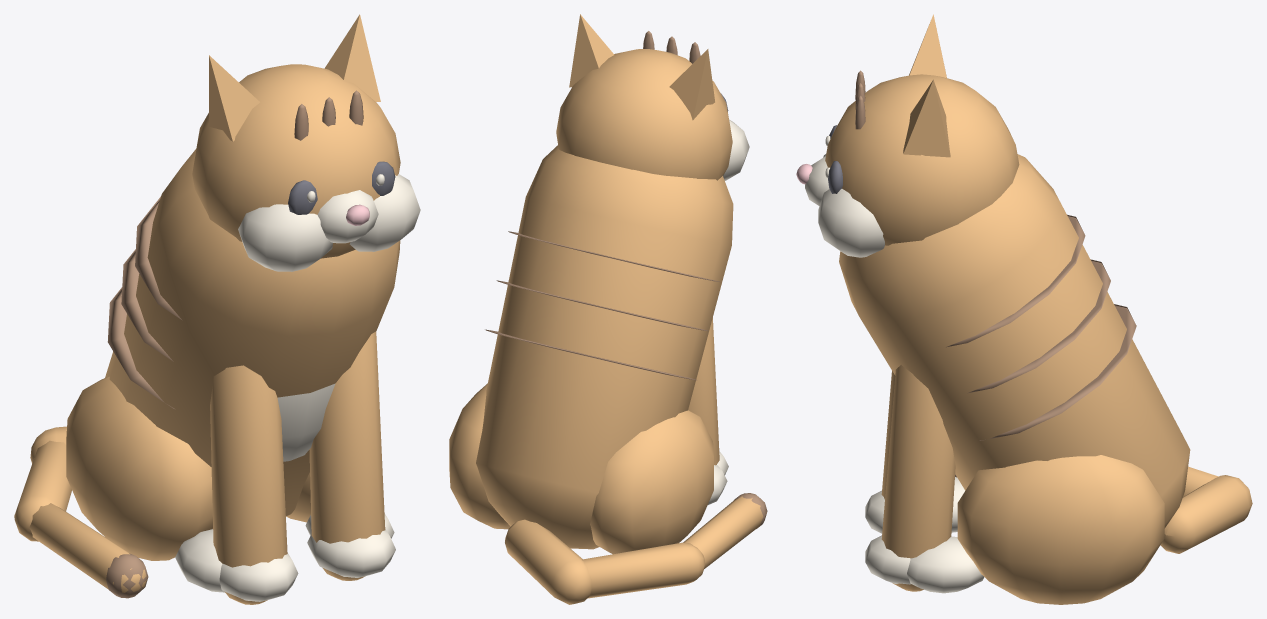
File: cat.glb
3 views of the same model, side by side, from view 1: azimuth 30°, elevation 25°; view 2: azimuth 150°, elevation 25°; view 3: azimuth 270°, elevation 25° (orthographic). The views are drawn at different scales.
Parts seen in each view (by area): view 1: cat-sitting; view 2: cat-sitting; view 3: cat-sitting.
Part boxes in pixels (x1,y1,x2,y2): cat-sitting: (14, 14, 420, 604); cat-sitting: (449, 14, 767, 604); cat-sitting: (796, 14, 1252, 604).
Bounding box in the file's own units: 0.2997 × 0.5095 × 0.4063.
